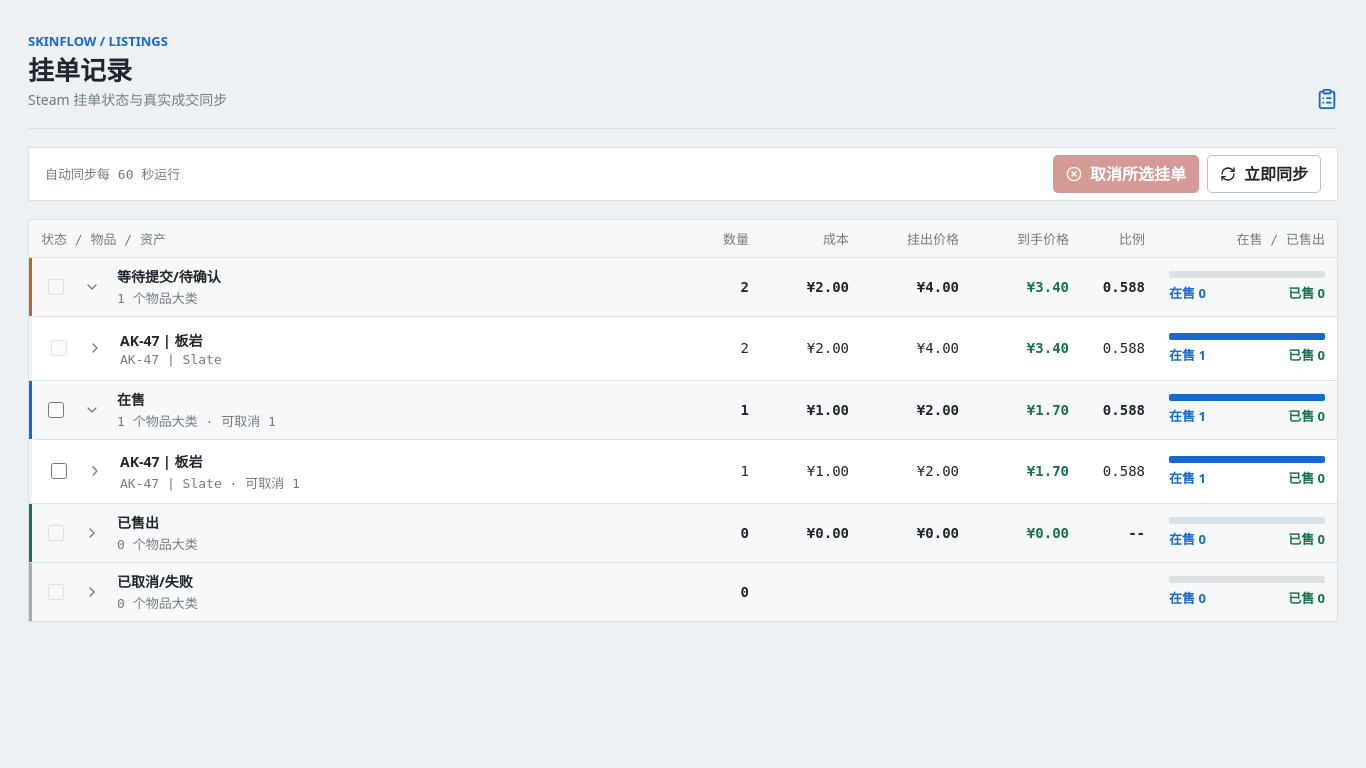
ListingsPage › separates queued and mobile-confirmation items from actual active listings
This screenshot has width=1366, height=768.
expect the text "等待提交/待确认" is shown: met, box [117,266,221,286]
Click the button named "展开 AK-47 | 板岩" below "等待提交/待确认": (95, 348) [78,331,112,365]
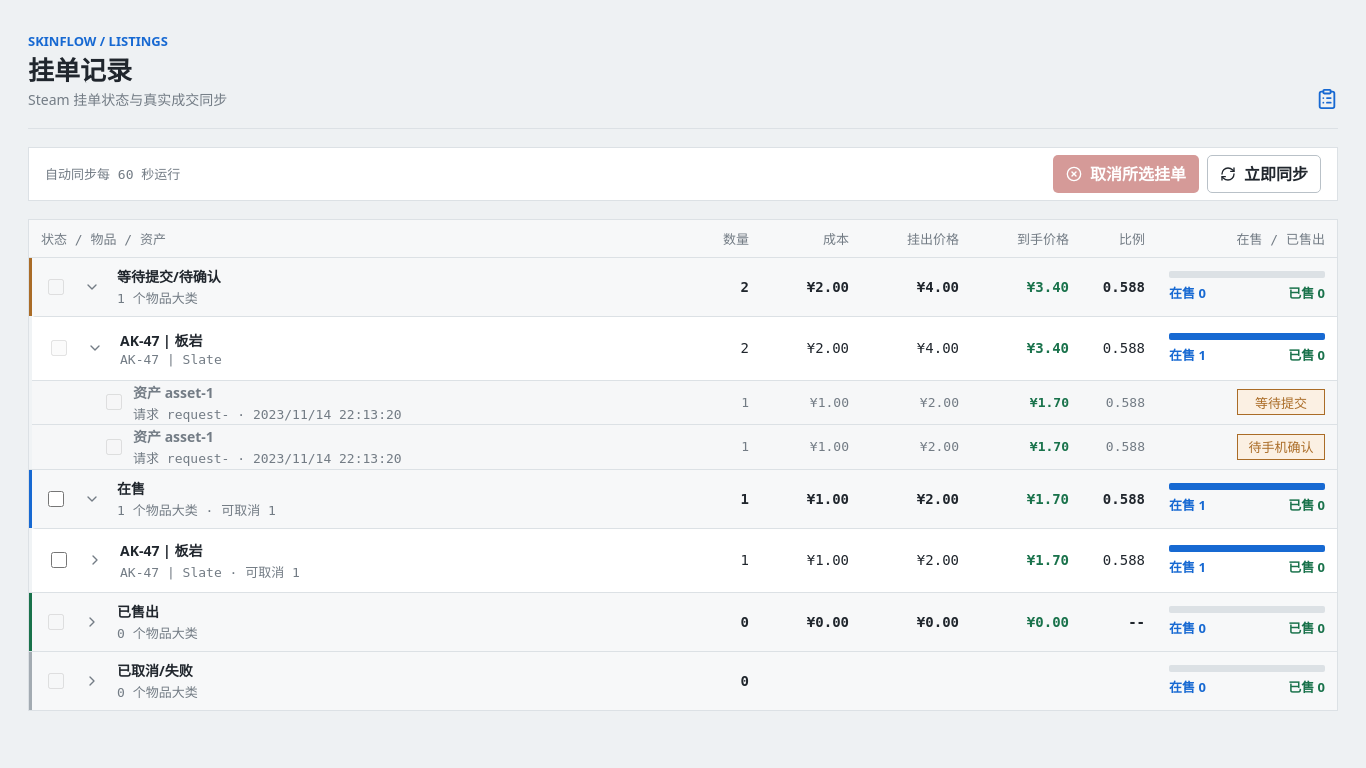
expect the text "在售" is shown: met, box [117,479,145,498]
expect the text "等待提交" is shown: met, box [1237,389,1325,415]
expect the text "待手机确认" is shown: met, box [1237,434,1325,460]
